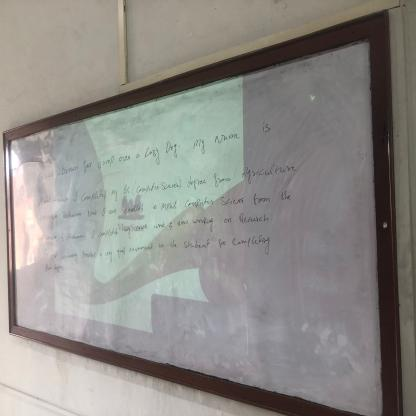Handwritten text: (31, 108, 282, 188), (31, 155, 301, 211), (34, 184, 297, 225), (39, 232, 282, 270), (57, 208, 276, 245)
Whiteboard: (2, 31, 386, 416)
